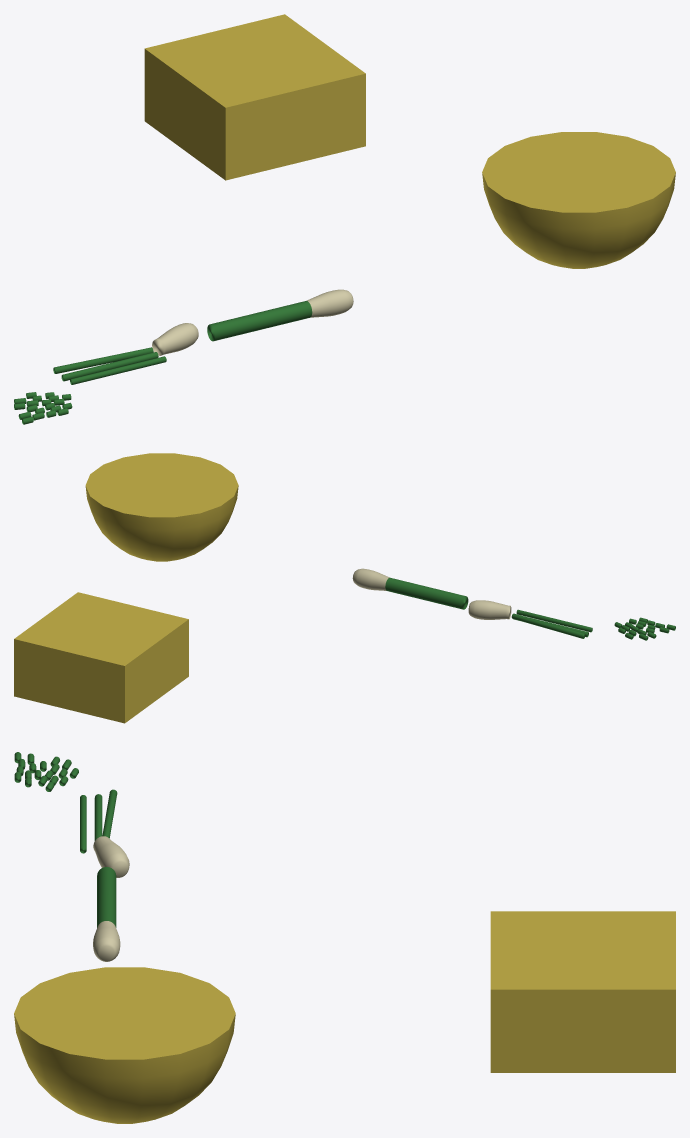
Rendered from VerdurasCompletas.fbx.
3 views of the same model, one above another, from view 1: azimuth 30°, elevation 25°; view 2: azimuth 150°, elevation 25°; view 3: azimuth 270°, elevation 25° (orthographic). The views are drawn at different scales.
Visible parts, largest first — view 1: MijoCrudo, MijoFinal, CelleryMitad, CelleryEntero, CelleryCortado; view 2: MijoCrudo, MijoFinal, CelleryEntero, CelleryMitad, CelleryCortado; view 3: MijoCrudo, MijoFinal, CelleryMitad, CelleryEntero, CelleryCortado.
Part boxes in pixels (x1,y1,x2,y2): MijoCrudo: (144,14,365,180); MijoFinal: (482,132,675,268); CelleryMitad: (53,323,198,384); CelleryEntero: (207,289,353,341); CelleryCortado: (14,392,72,424); MijoCrudo: (14,592,188,723); MijoFinal: (85,453,238,561); CelleryEntero: (352,568,468,609); CelleryMitad: (468,600,592,638); CelleryCortado: (614,617,675,640); MijoCrudo: (490,911,675,1072); MijoFinal: (14,967,235,1123); CelleryMitad: (80,789,129,877); CelleryEntero: (93,867,120,961); CelleryCortado: (14,752,78,791).
Size of the model in its own units: 154 by 18.88 by 113.
